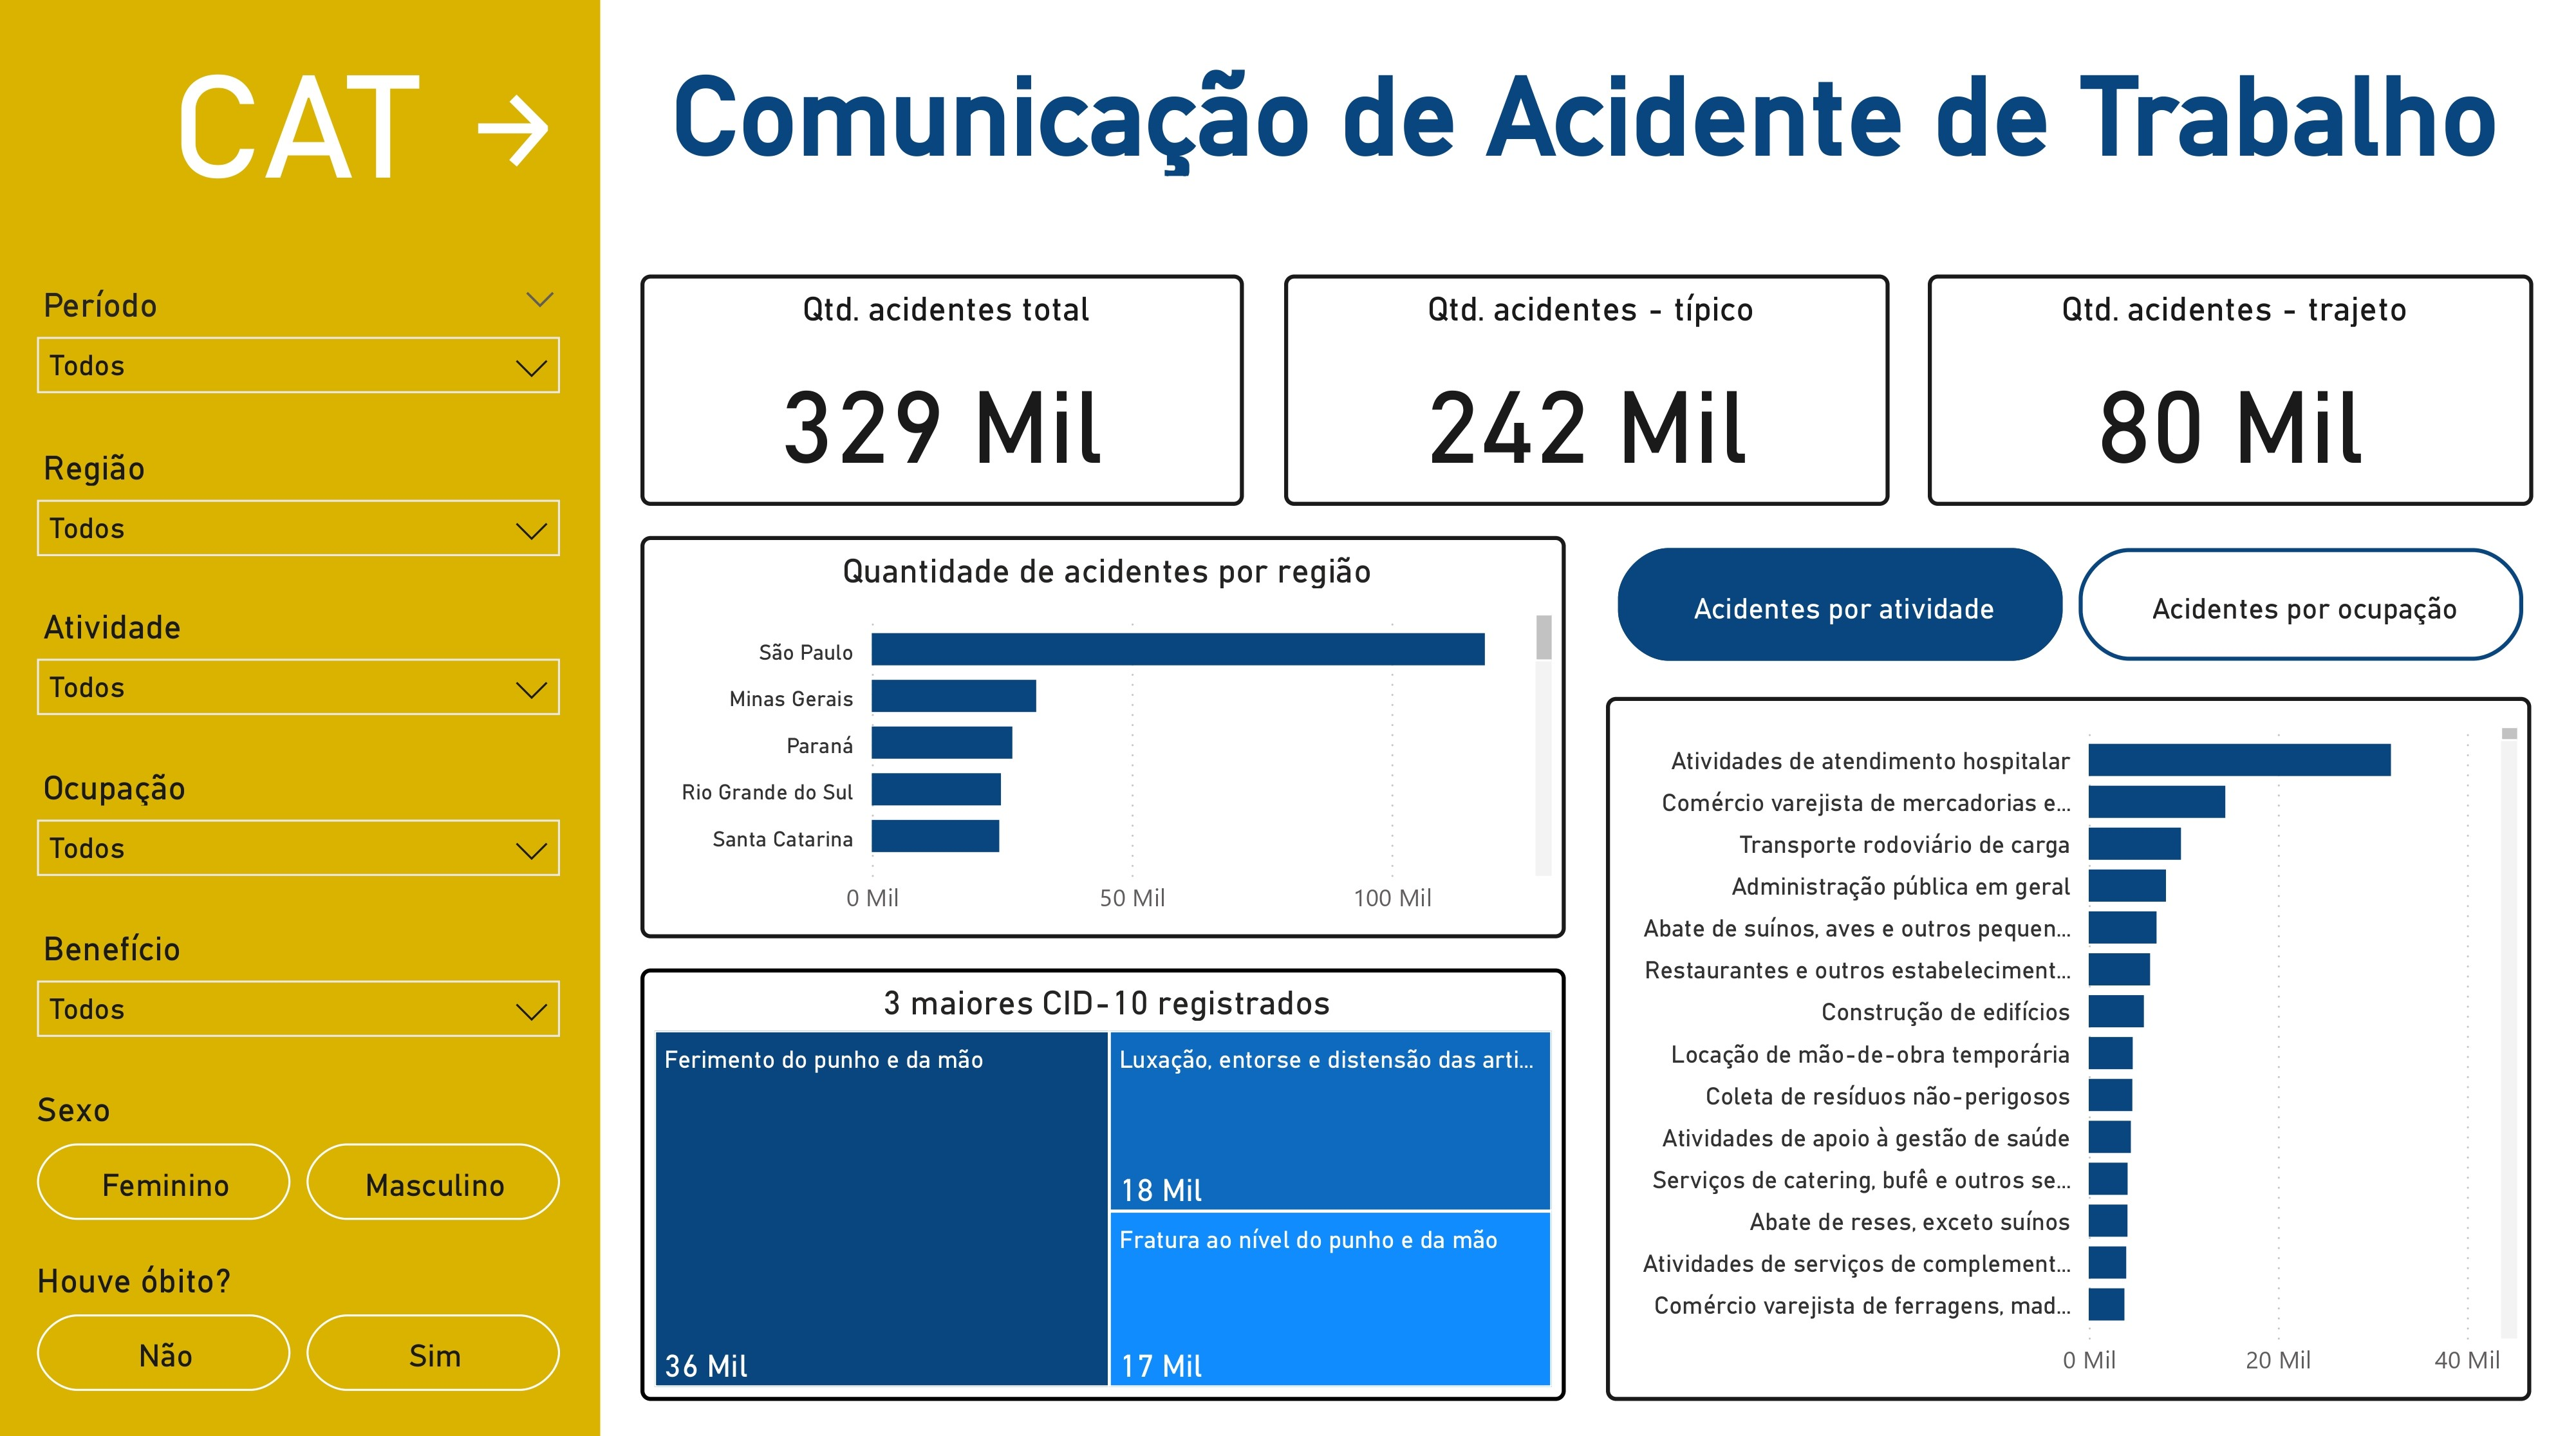

Layout of this report page (visuals, bound fields, positions):
{"tool":"powerbi","page":{"name":"Visão geral","canvas":[1280,720],"ordinal":0},"visuals":[{"type":"shape","box":[0,0,299.5,720],"z":0},{"type":"shape","box":[300,0,980,120],"z":1000},{"type":"card","title":"Qtd. acidentes total","fields":{"Values":["Medidas.qtd_acidentes"]},"box":[320,140,300,115],"z":2000},{"type":"card","title":"Qtd. acidentes - típico","fields":{"Values":["Medidas.qtd_tipico"]},"box":[640,140,301,115],"z":3000},{"type":"card","title":"Qtd. acidentes - trajeto","fields":{"Values":["Medidas.qtd_trajeto"]},"box":[960,140,301,115],"z":4000},{"type":"slicer","fields":{"Values":["catweb_v2.dt_acidente.Variation.Hierarquia de datas.Mês"]},"box":[10,140,280,70],"z":5000},{"type":"slicer","fields":{"Values":["dim_mun.nm_uf","dim_mun.nm_mun"]},"box":[10,220.8,280,70],"z":6000},{"type":"slicer","fields":{"Values":["dim_cnae.nm_classe"]},"box":[10,300,280,70],"z":7000},{"type":"slicer","fields":{"Values":["dim_cbo.nm_cbo"]},"box":[10,380,280,70],"z":8000},{"type":"advancedSlicerVisual","title":"Sexo","fields":{"Values":["catweb_v2.nm_sexo"]},"box":[15,540,270,75],"z":9000},{"type":"advancedSlicerVisual","title":"Houve óbito?","fields":{"Values":["catweb_v2.indica_obito"]},"box":[15,625,270,75],"z":10000},{"type":"slicer","fields":{"Values":["catweb_v2.tipo_beneficio"]},"box":[10.1,460,280,70],"z":11000},{"type":"clusteredBarChart","title":"Quantidade de acidentes por região","fields":{"Category":["dim_mun.nm_uf","dim_mun.nm_mun"],"Y":["Medidas.qtd_acidentes"]},"box":[320,270,460,200],"z":12000},{"type":"clusteredBarChart","fields":{"Category":["dim_cnae.nm_classe"],"Y":["Medidas.qtd_acidentes"]},"box":[800,350,460,350],"z":13000},{"type":"treemap","title":"3 maiores CID-10 registrados","fields":{"Group":["dim_cid.nm_cid"],"Values":["Medidas.qtd_acidentes"]},"box":[320,485,460,215],"z":14000},{"type":"advancedSlicerVisual","fields":{"Values":["parametro_geral.Parâmetro"]},"box":[800.6,270.7,460.8,66.2],"z":15000},{"type":"actionButton","box":[230,46,50,45],"z":16000}]}

Visuals, with their boxes in screenshot pixels (x1, y1, x2, y2), scaled from the page's 1280x720 canvas onto the 2576x1436 screenshot:
shape: Rect(0, 0, 602, 1435)
shape: Rect(604, 0, 2575, 239)
"Qtd. acidentes total" card: Rect(644, 279, 1247, 508)
"Qtd. acidentes - típico" card: Rect(1288, 279, 1894, 508)
"Qtd. acidentes - trajeto" card: Rect(1932, 279, 2538, 508)
slicer - catweb_v2.dt_acidente.Variation.Hierarquia de datas.Mês: Rect(20, 279, 584, 419)
slicer - dim_mun.nm_uf x dim_mun.nm_mun: Rect(20, 440, 584, 580)
slicer - dim_cnae.nm_classe: Rect(20, 599, 584, 738)
slicer - dim_cbo.nm_cbo: Rect(20, 758, 584, 897)
"Sexo" advancedSlicerVisual: Rect(30, 1077, 574, 1227)
"Houve óbito?" advancedSlicerVisual: Rect(30, 1247, 574, 1396)
slicer - catweb_v2.tipo_beneficio: Rect(21, 917, 584, 1057)
"Quantidade de acidentes por região" clusteredBarChart: Rect(644, 539, 1570, 937)
clusteredBarChart - dim_cnae.nm_classe x Medidas.qtd_acidentes: Rect(1610, 698, 2535, 1396)
"3 maiores CID-10 registrados" treemap: Rect(644, 967, 1570, 1396)
advancedSlicerVisual - parametro_geral.Parâmetro: Rect(1611, 540, 2539, 672)
actionButton: Rect(463, 92, 563, 182)
